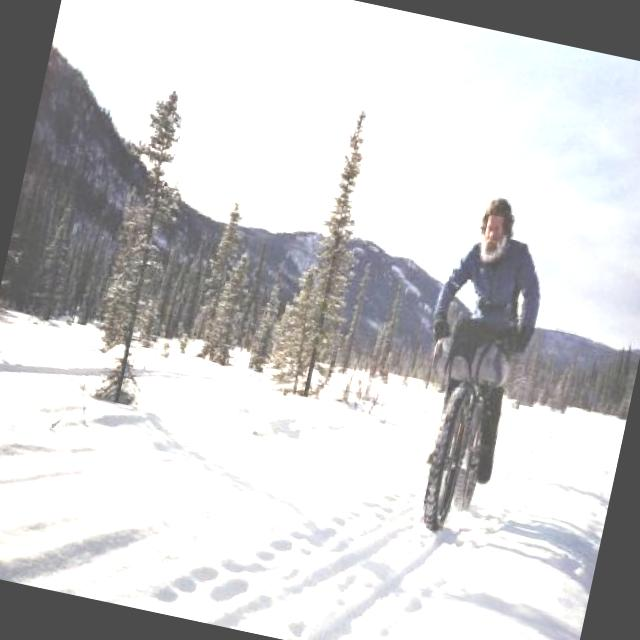Person: (405, 188, 564, 483)
